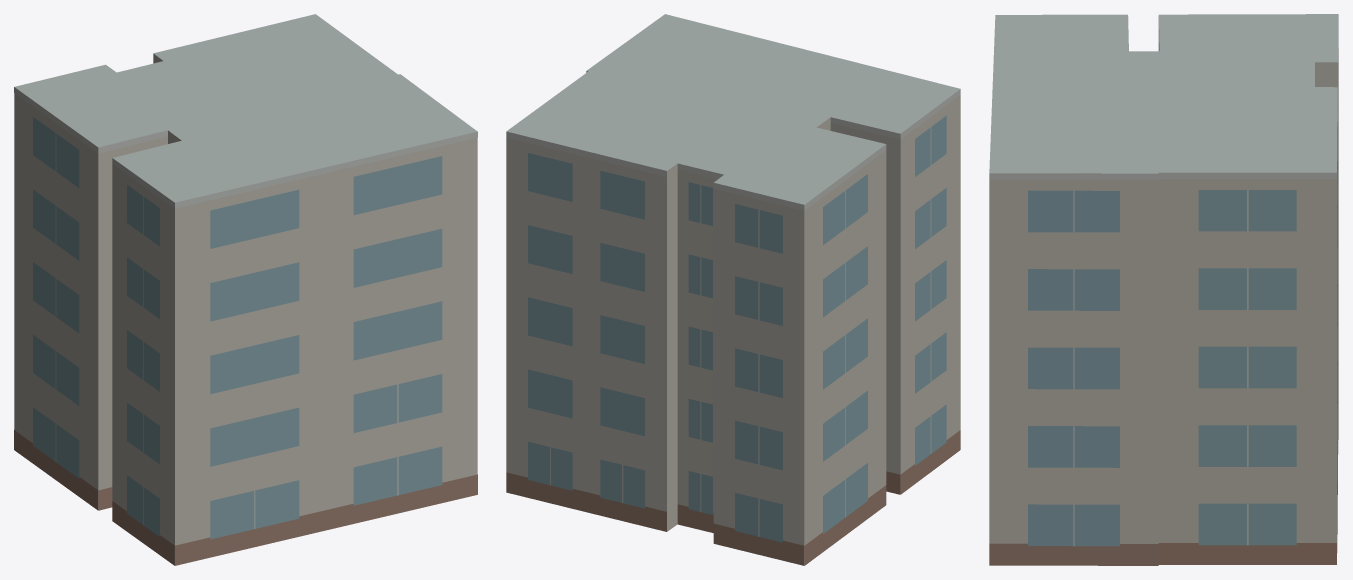
Rendered from survey-upis-32997220.glb.
The picture shows the model from 3 angles, left to right: view 1: azimuth 30°, elevation 25°; view 2: azimuth 150°, elevation 25°; view 3: azimuth 270°, elevation 25°; orthographic projection. The views are drawn at different scales.
Visible parts, largest first — view 1: survey-upis-32997220.tmp; view 2: survey-upis-32997220.tmp; view 3: survey-upis-32997220.tmp.
Boxes of the visible parts, x1=… form: survey-upis-32997220.tmp: x1=14, y1=14, x2=477, y2=565; survey-upis-32997220.tmp: x1=506, y1=14, x2=960, y2=565; survey-upis-32997220.tmp: x1=989, y1=14, x2=1338, y2=565.
Bounding box in the file's own units: 12.92 × 14.8 × 11.96.
